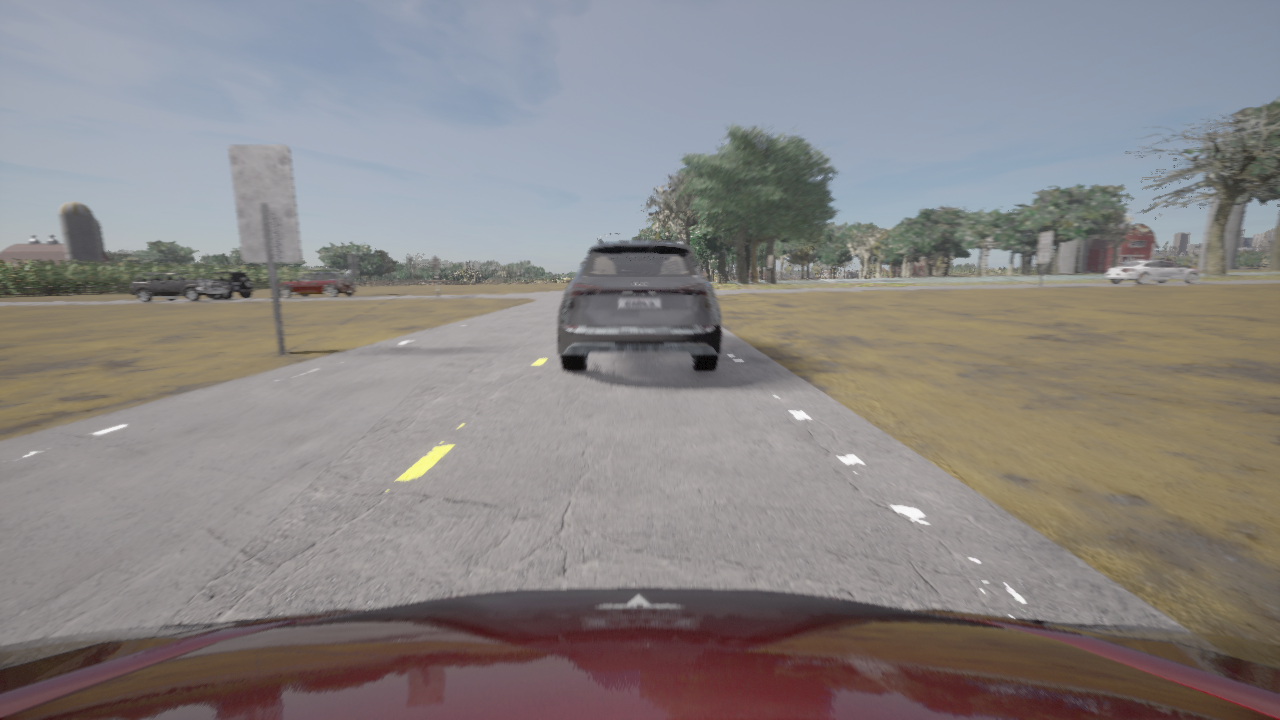cyclist: (0, 588, 1279, 719), (558, 236, 721, 371), (130, 270, 227, 301), (1105, 260, 1200, 284), (278, 272, 356, 298), (184, 271, 255, 299)
